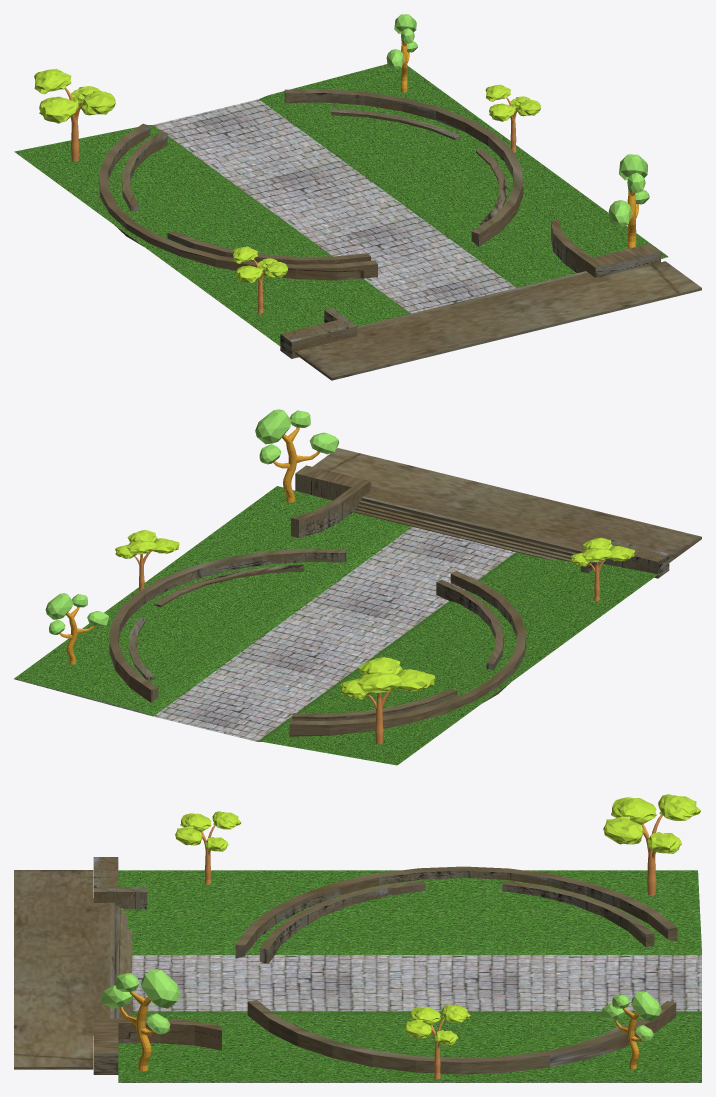
File: brainland.fbx
3 views of the same model, one above another, from view 1: azimuth 30°, elevation 25°; view 2: azimuth 150°, elevation 25°; view 3: azimuth 270°, elevation 25° (orthographic). The views are drawn at different scales.
Visible parts, largest first — view 1: Plane.001, Plane, Cube, Cylinder, Cylinder.001, Object_7.002, Cube.002, Object_8.001, Cube.001, Object_7, Object_7.001, Object_8.002; view 2: Plane.001, Plane, Cube, Cylinder, Cylinder.001, Cube.002, Object_8.001, Object_7.002, Object_8.002, Object_7, Cube.001, Object_7.001; view 3: Plane.001, Plane, Cube, Cylinder, Cylinder.001, Object_7.002, Cube.002, Object_8.001, Object_8.002, Cube.001, Object_7.001, Object_7.
Part boxes in pixels (bbox=[...]): Plane.001: bbox=[14, 64, 667, 347]; Plane: bbox=[154, 99, 667, 313]; Cube: bbox=[295, 261, 701, 380]; Cylinder: bbox=[99, 89, 523, 280]; Cylinder.001: bbox=[121, 108, 507, 264]; Object_7.002: bbox=[34, 68, 115, 161]; Cube.002: bbox=[551, 219, 660, 277]; Object_8.001: bbox=[608, 154, 649, 248]; Cube.001: bbox=[280, 308, 357, 358]; Object_7: bbox=[232, 246, 287, 313]; Object_7.001: bbox=[485, 84, 540, 152]; Object_8.002: bbox=[386, 14, 417, 92]; Plane.001: bbox=[14, 486, 659, 765]; Plane: bbox=[14, 527, 523, 741]; Cube: bbox=[312, 448, 701, 562]; Cylinder: bbox=[109, 548, 526, 736]; Cylinder.001: bbox=[128, 564, 503, 721]; Cube.002: bbox=[291, 465, 370, 537]; Object_8.001: bbox=[255, 409, 339, 502]; Object_7.002: bbox=[340, 657, 434, 744]; Object_8.002: bbox=[45, 593, 109, 664]; Object_7: bbox=[570, 537, 634, 600]; Cube.001: bbox=[580, 538, 669, 578]; Object_7.001: bbox=[115, 530, 179, 590]; Plane.001: bbox=[118, 870, 701, 1082]; Plane: bbox=[118, 943, 701, 1082]; Cube: bbox=[14, 870, 132, 1069]; Cylinder: bbox=[235, 866, 677, 1074]; Cylinder.001: bbox=[260, 880, 654, 1045]; Object_7.002: bbox=[603, 794, 700, 895]; Cube.002: bbox=[93, 1018, 221, 1074]; Object_8.001: bbox=[101, 969, 180, 1071]; Object_8.002: bbox=[601, 991, 661, 1069]; Cube.001: bbox=[93, 857, 147, 909]; Object_7.001: bbox=[404, 1004, 470, 1079]; Object_7: bbox=[175, 811, 241, 884].
Bounding box in the file's own units: 3539 × 853 × 4728.
Materials: 17 (7 with a texture image).
